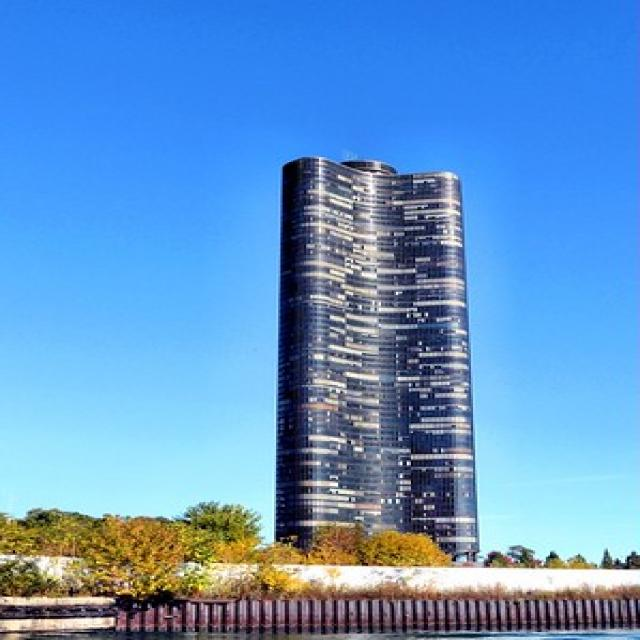Normal_building: (270, 149, 482, 568)
